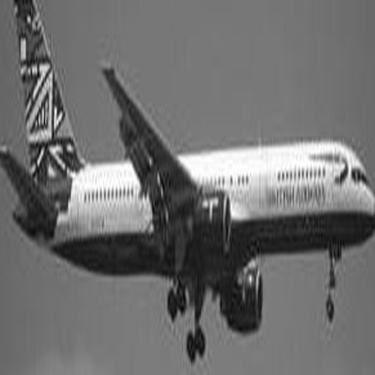airplane: (3, 2, 368, 369)
